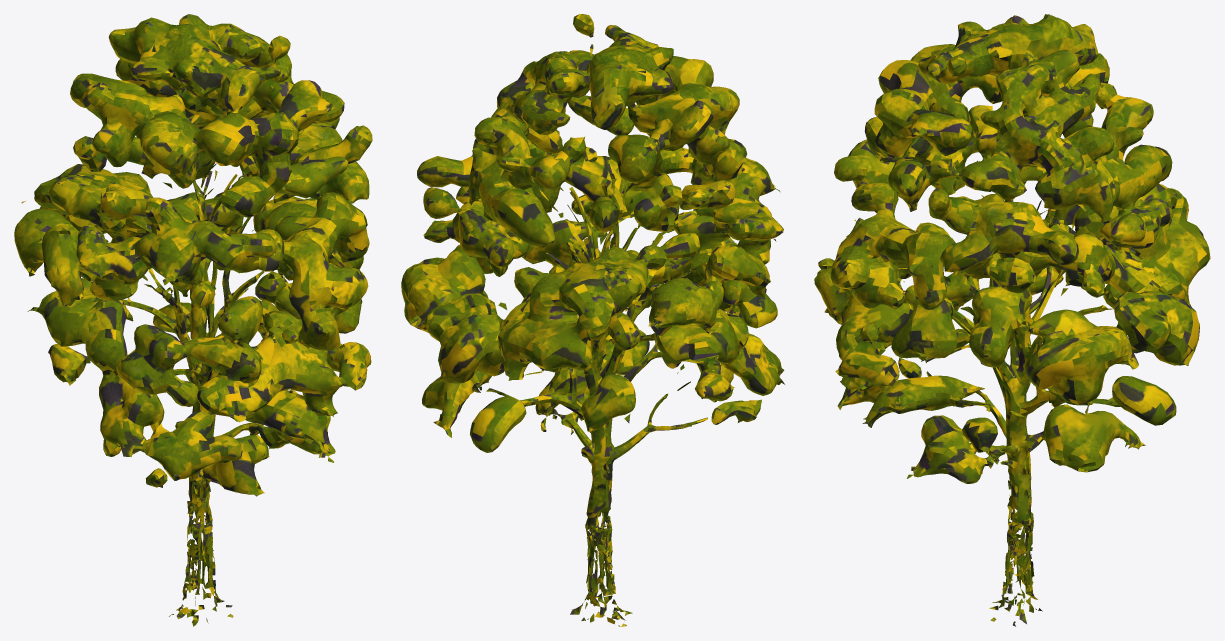
Rendered from veg_tree_maple_01.obj.
The picture shows the model from 3 angles, left to right: view 1: azimuth 30°, elevation 25°; view 2: azimuth 150°, elevation 25°; view 3: azimuth 270°, elevation 25°; orthographic projection. The views are drawn at different scales.
Parts seen in each view (by area): view 1: veg_tree_maple_01; view 2: veg_tree_maple_01; view 3: veg_tree_maple_01.
Part boxes in pixels (<box>): veg_tree_maple_01: <box>14,14,372,626</box>; veg_tree_maple_01: <box>401,14,784,626</box>; veg_tree_maple_01: <box>814,14,1210,626</box>.
Size of the model in its own units: 9.97 by 16.98 by 10.5.
Materials: 1 (1 with a texture image).
